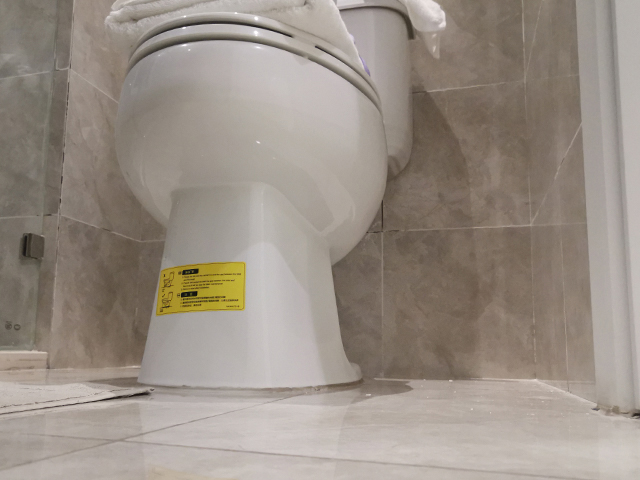carpet: (1, 380, 159, 416)
closestool: (111, 1, 417, 393)
